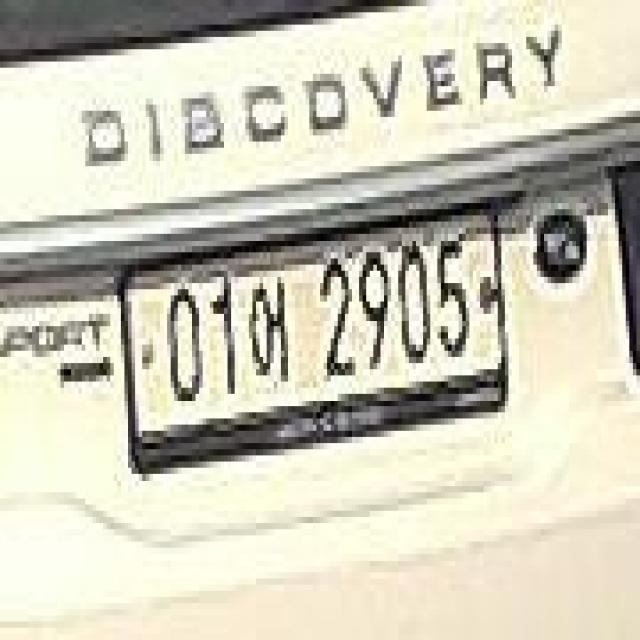illegal_plate: (119, 180, 514, 477)
